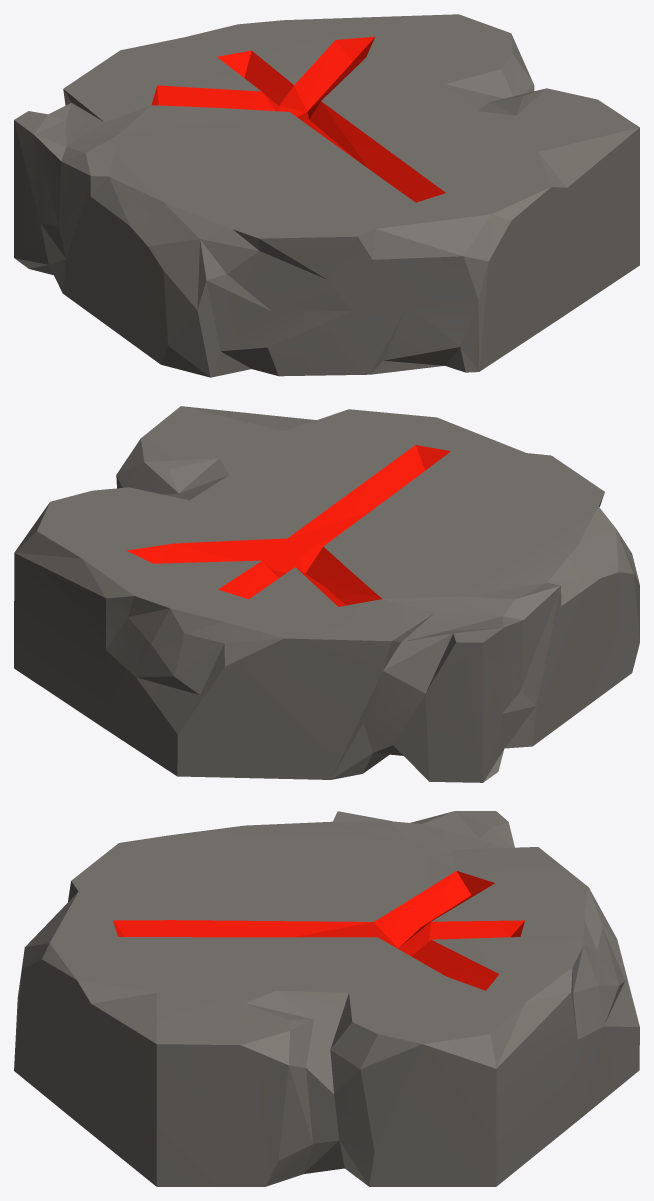
Rendered from SM_Env_Rune_Rounded_02.obj.
The picture shows the model from 3 angles, top to bottom: view 1: azimuth 30°, elevation 25°; view 2: azimuth 150°, elevation 25°; view 3: azimuth 270°, elevation 25°; orthographic projection. The views are drawn at different scales.
Visible parts, largest first — view 1: SM_Env_Rune_Rounded_02; view 2: SM_Env_Rune_Rounded_02; view 3: SM_Env_Rune_Rounded_02.
Part boxes in pixels (left/top/right/bottom): SM_Env_Rune_Rounded_02: left=14, top=14, right=639, bottom=377; SM_Env_Rune_Rounded_02: left=14, top=406, right=639, bottom=782; SM_Env_Rune_Rounded_02: left=14, top=811, right=639, bottom=1186.
Size of the model in its own units: 0.5624 by 0.1605 by 0.638.
